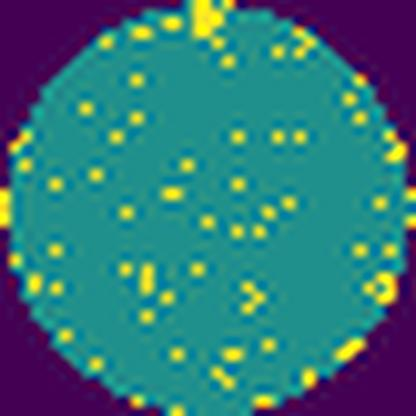Edge-Loc: (185, 0, 229, 43)
